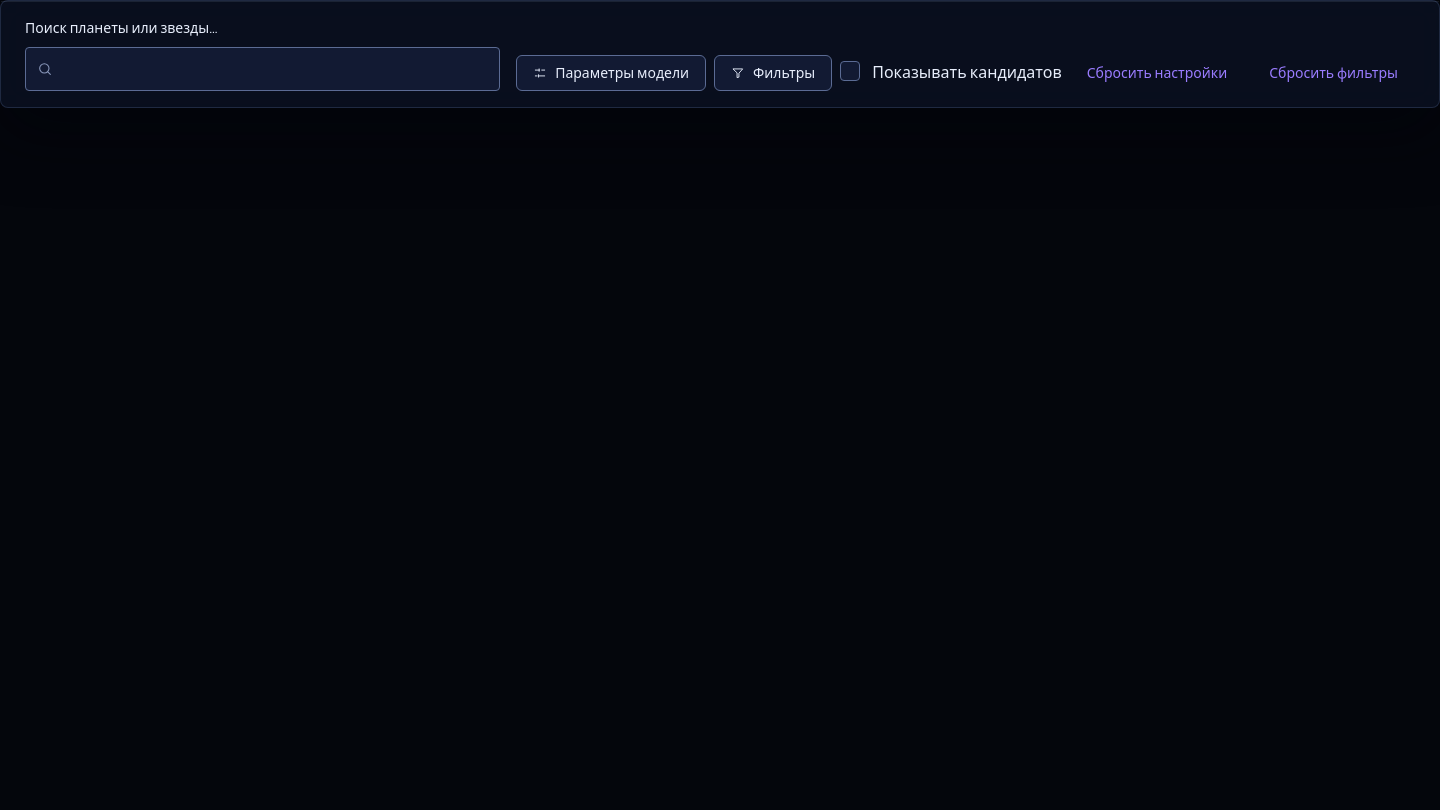
Scenario: панель «Параметры модели» › в classic_esi штрафы и границы HZ отключены, ползунок Q_data доступен
Click the button "Параметры модели" at (611, 73), box [516, 55, 706, 91]
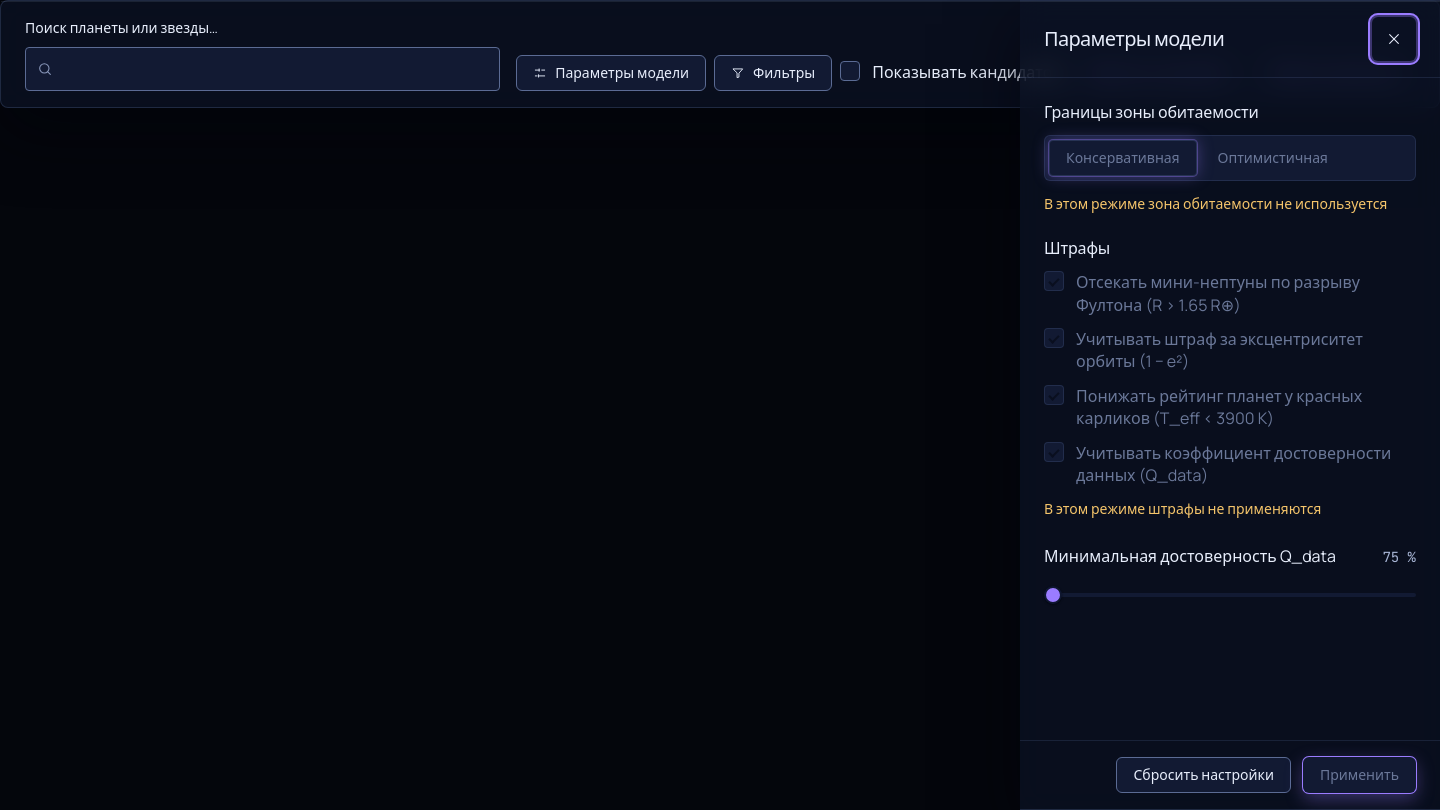
Now the slider labelled "Минимальная достоверность Q_data" is enabled, box [1044, 577, 1416, 613]
Now the text "В этом режиме штрафы не применяются" is shown, box [1044, 499, 1321, 518]
Now the text "В этом режиме зона обитаемости не используется" is shown, box [1044, 193, 1416, 214]
